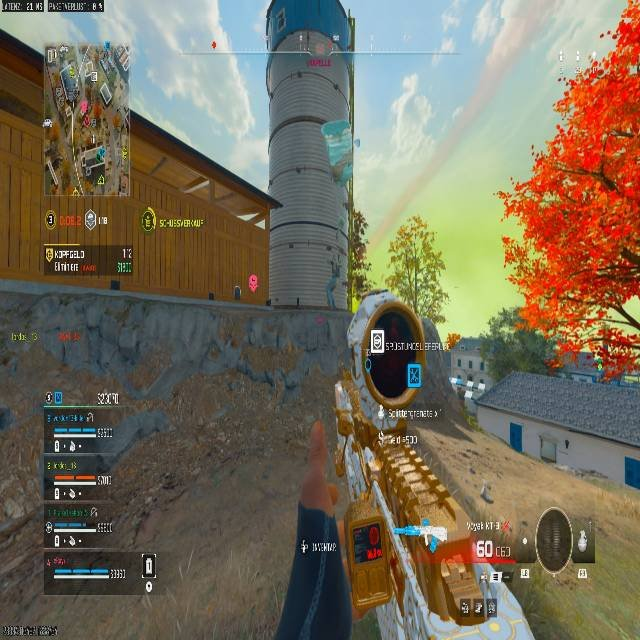head: (402, 73, 418, 92)
player: (386, 72, 433, 157)
